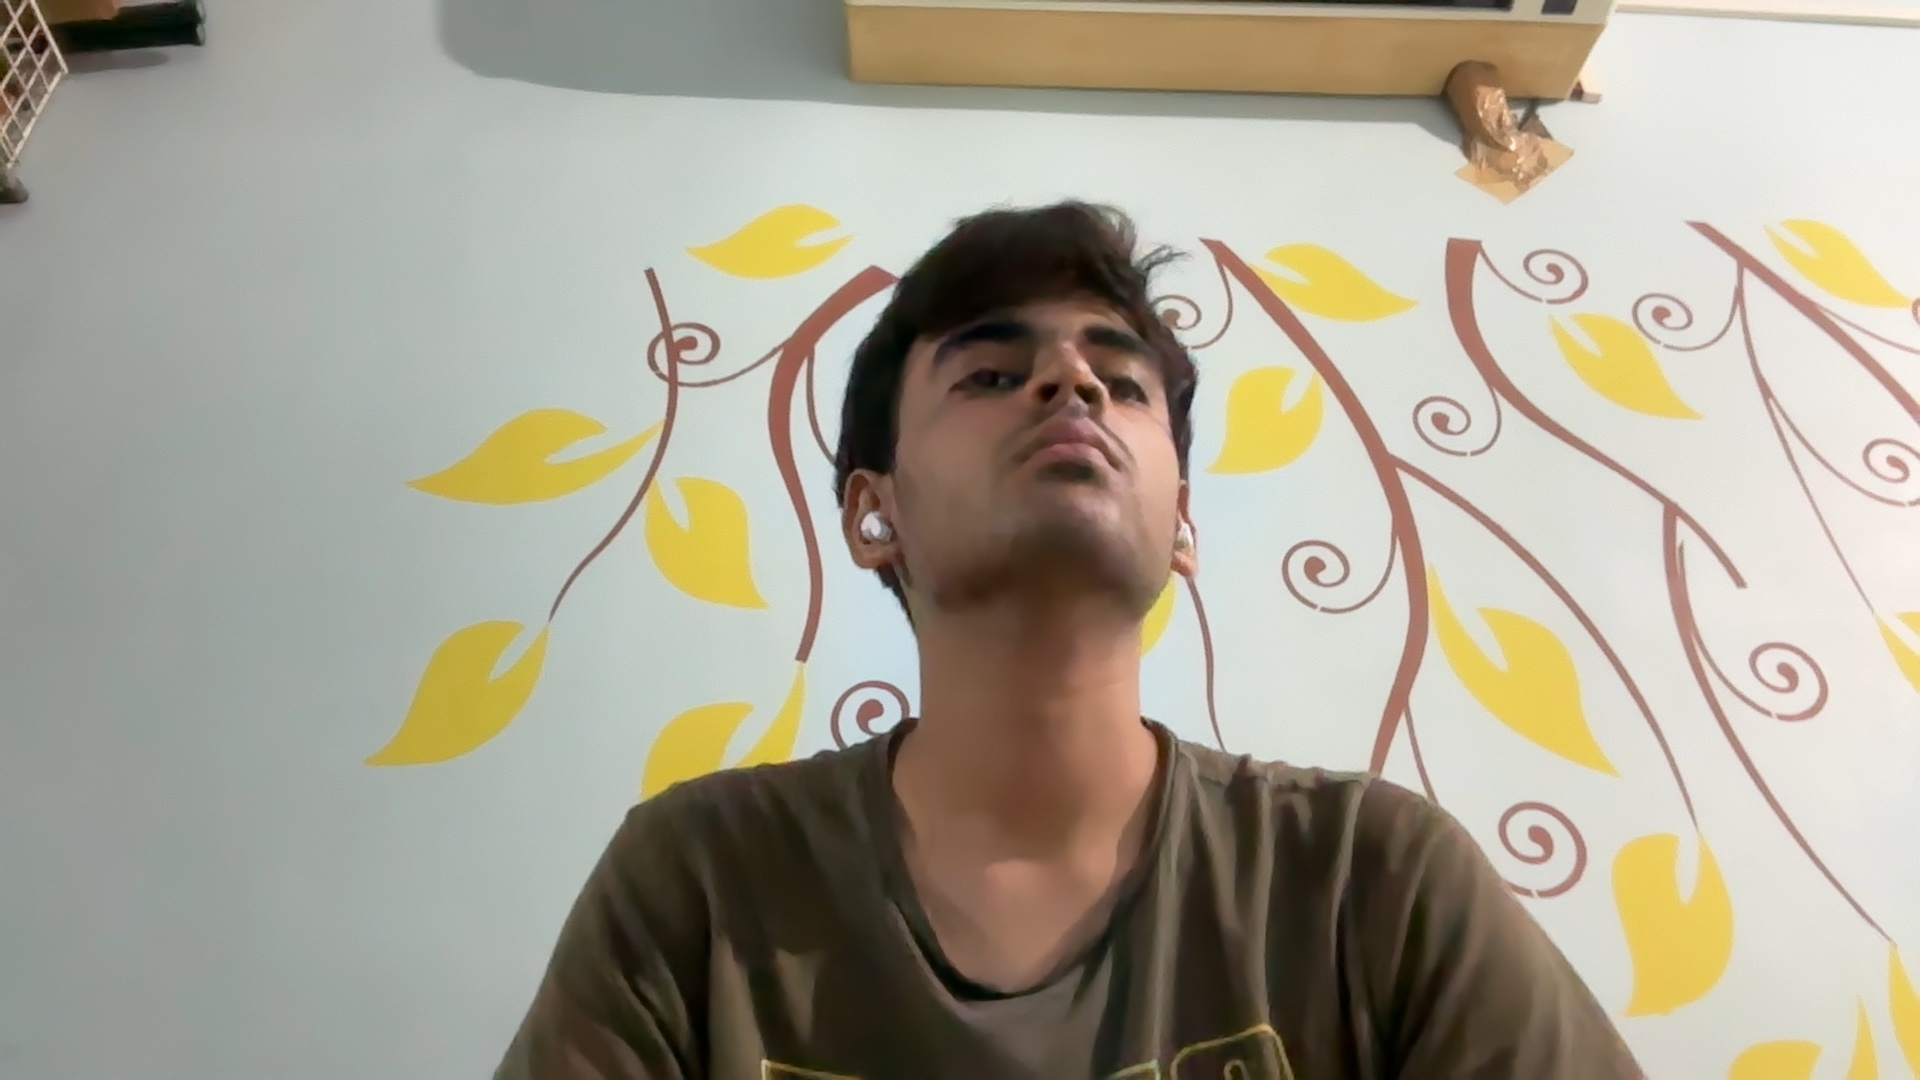No Mask: (917, 380, 1192, 630)
